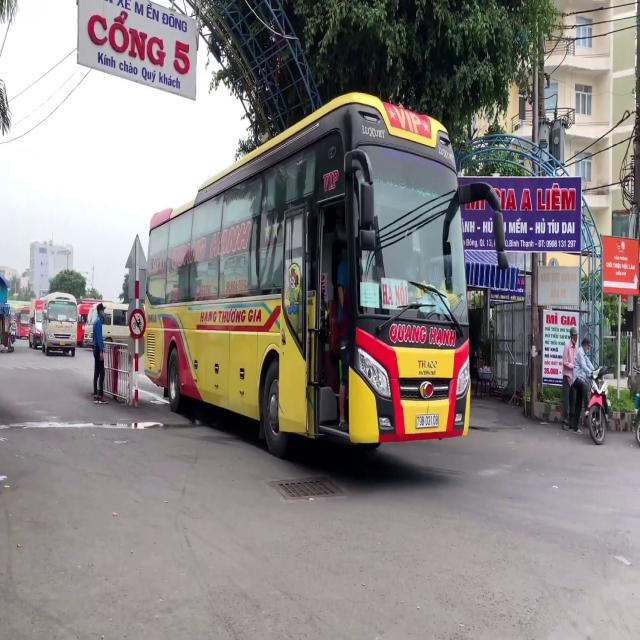bien_trang: (416, 414, 439, 427)
